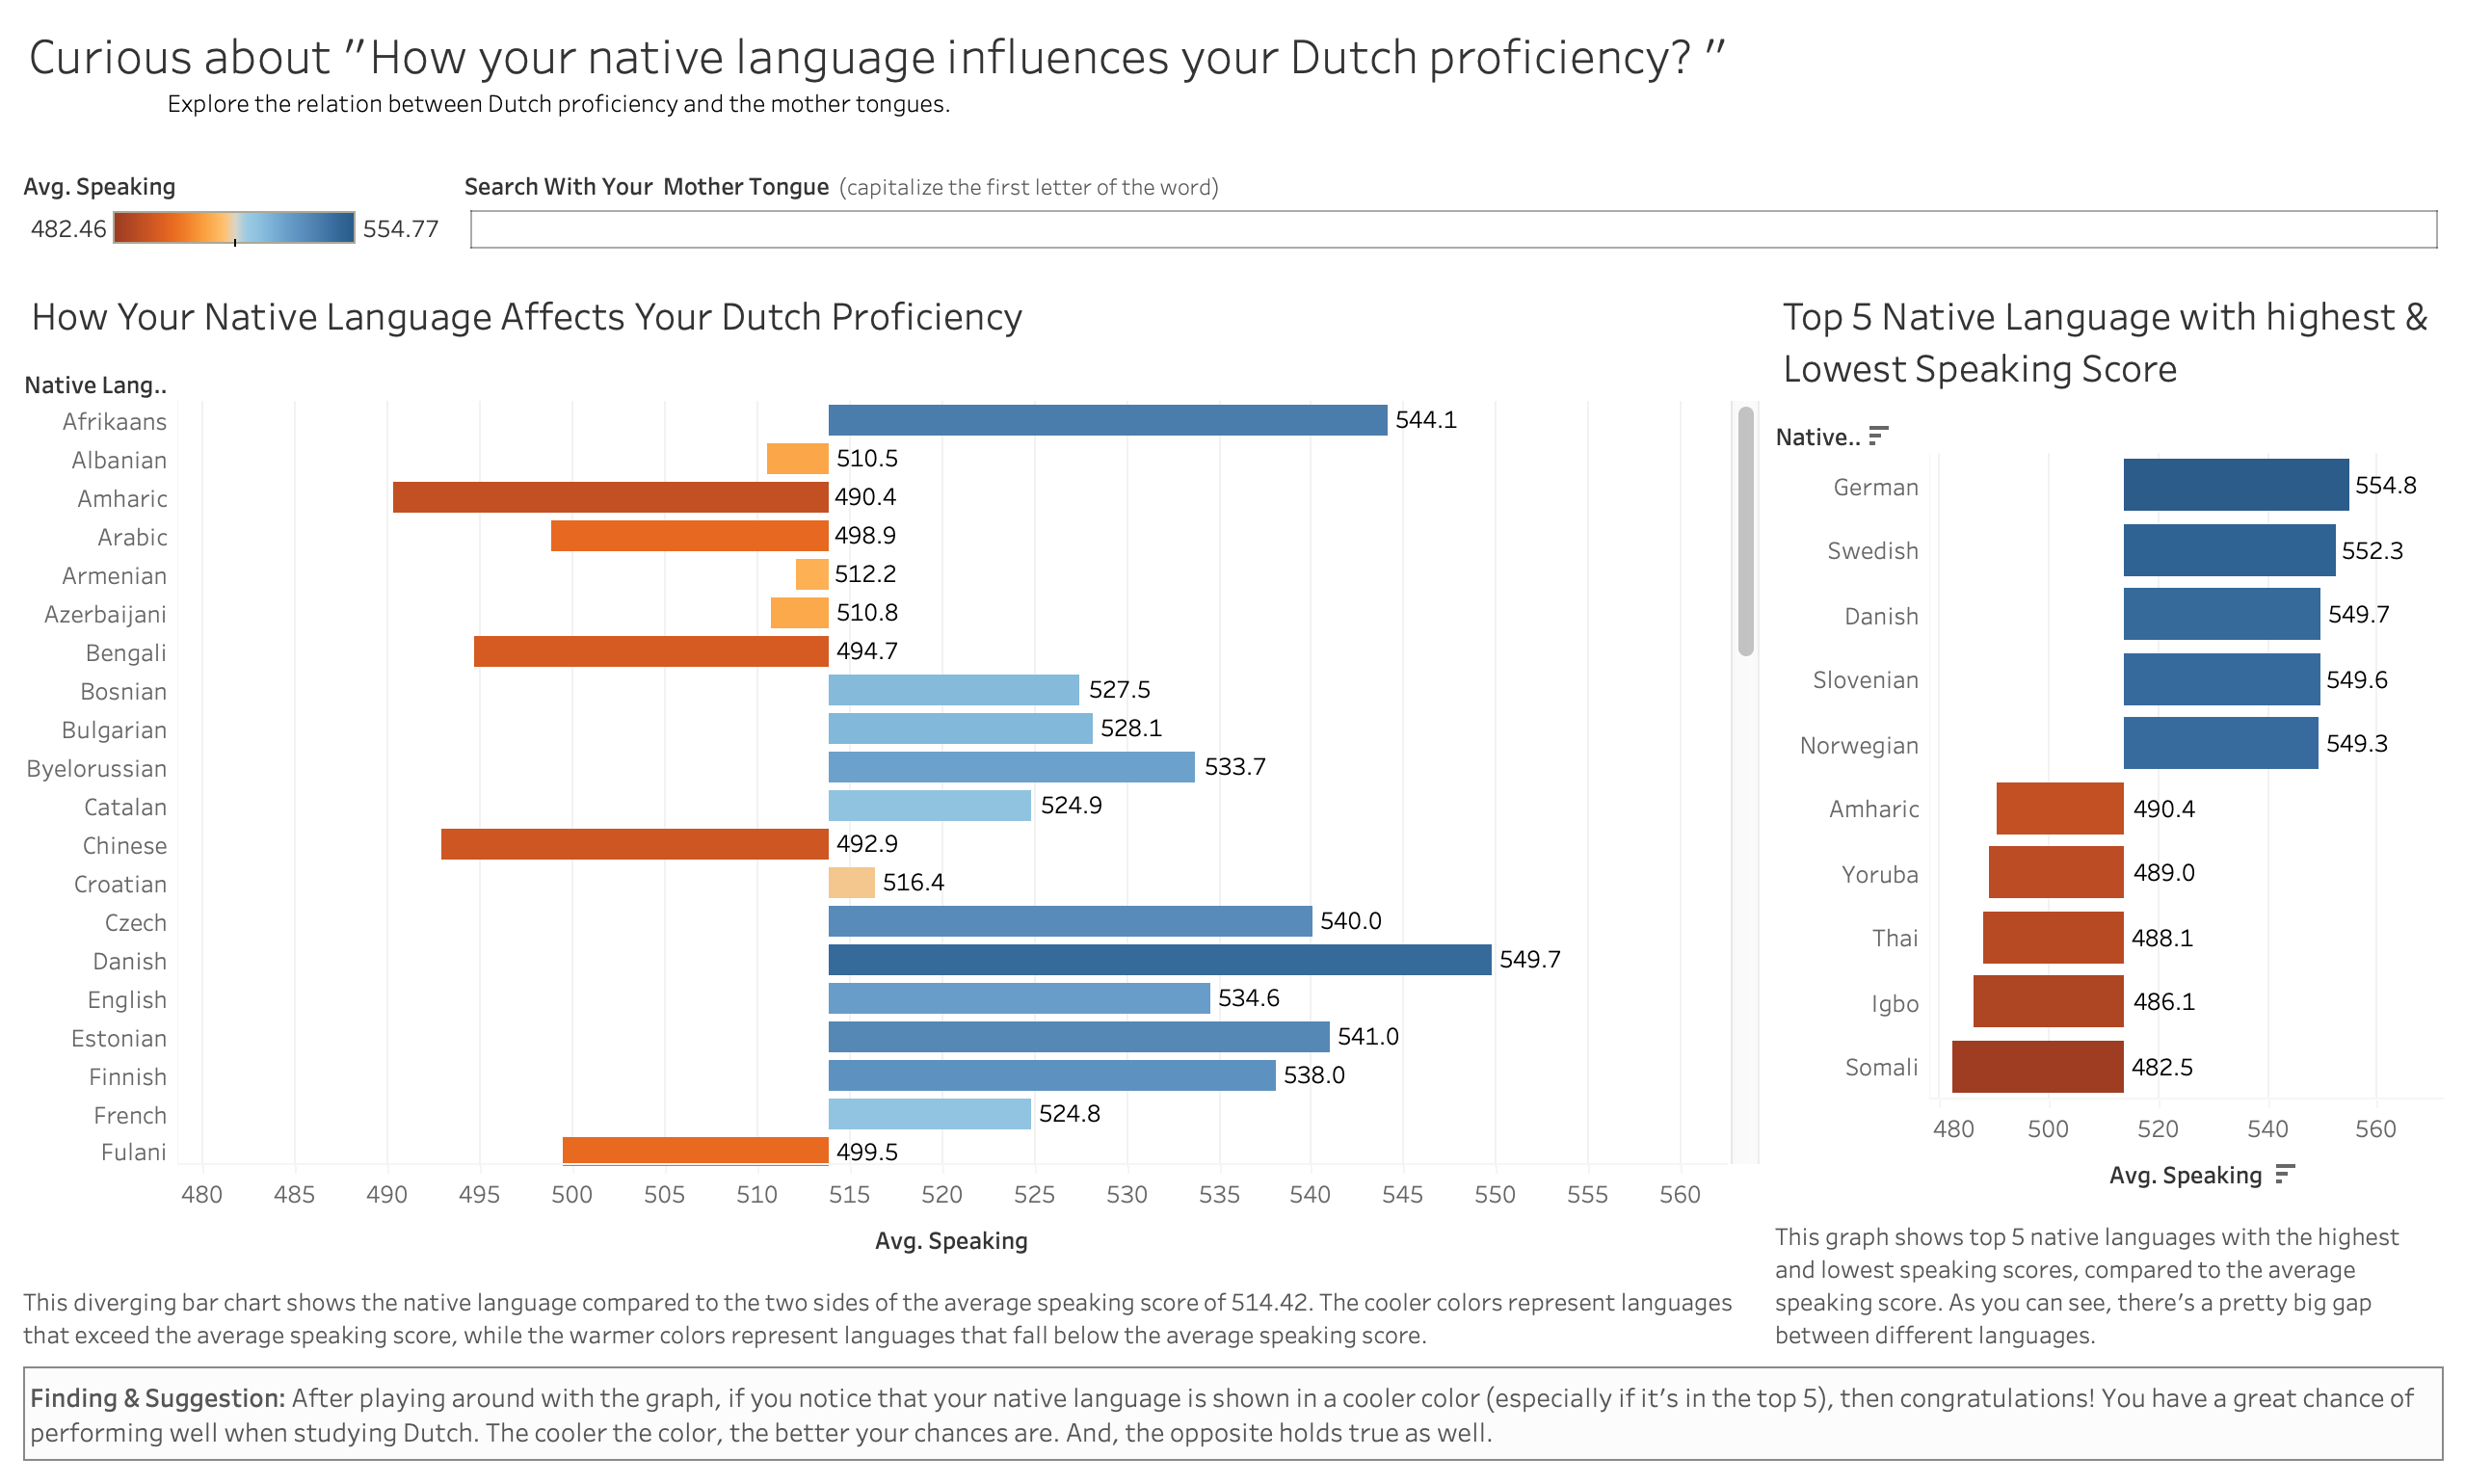

This screenshot's page, from the dashboard's own definition file:
{"tool":"tableau","page":{"name":"Dashboard 2","canvas":[1000,1000],"units":"permille","ordinal":1},"visuals":[{"type":"text","box":[6.2,10.4,987.5,98.2]},{"type":"legend","title":"L1&Speaking","param":"[federated.0nq162a0azgo201e57eep1p0yfa0 (copy 3)].[avg:Speaking:qk]","box":[6.2,108.6,179,76.3]},{"type":"parameter","param":"[Parameters].[Age Parameter (copy)_2094314599932526597]","box":[185.2,108.6,808.5,76.3]},{"type":"worksheet","title":"L1&Speaking","mark":"GanttBar","rows":["L1"],"cols":["Speaking"],"box":[6.2,184.9,709.9,730.9]},{"type":"worksheet","title":"Top5 L1","mark":"GanttBar","rows":["L1"],"cols":["Speaking"],"box":[716.1,184.9,277.6,730.9]},{"type":"text","box":[6.2,915.8,987.5,73.9]}]}

Visuals, with their boxes on the dashboard's canvas, which has no fixed pixel size, in thousandths of its width and height (x1, y1, x2, y2). These are canvas units, not pixel positions in the 2465x1484 screenshot, which may show the page scaled, cropped or inside an application window:
text: (left=6, top=10, right=994, bottom=109)
"L1&Speaking" legend: (left=6, top=109, right=185, bottom=185)
parameter: (left=185, top=109, right=994, bottom=185)
"L1&Speaking" worksheet (GanttBar marks): (left=6, top=185, right=716, bottom=916)
"Top5 L1" worksheet (GanttBar marks): (left=716, top=185, right=994, bottom=916)
text: (left=6, top=916, right=994, bottom=990)
